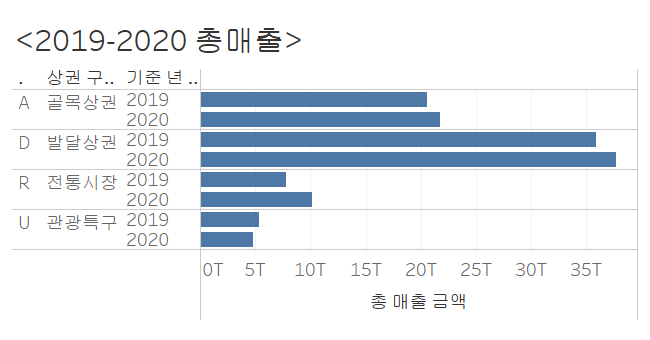

What the dashboard file says about the page in this screenshot:
{"tool":"tableau","page":{"name":"대시보드 3","canvas":[650,340],"ordinal":2},"visuals":[{"type":"worksheet","title":"2019-2020","mark":"Automatic","rows":["상권_구분_코드","상권_구분_코드_명","기준_년_코드"],"cols":["Calculation_1875467832722706446"],"box":[8,8,634,324]}]}

Visuals, with their boxes in screenshot pixels (x1, y1, x2, y2), scaled from the page's 650x340 canvas onto the 650x340 screenshot:
"2019-2020" worksheet: bbox=[8, 8, 642, 332]
